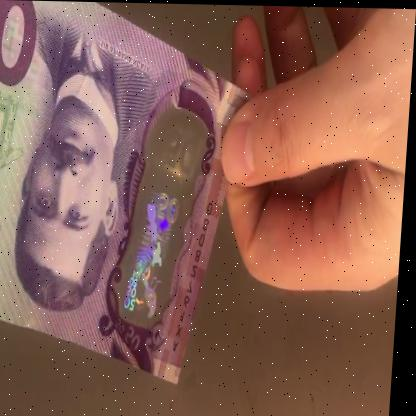50F: (126, 128, 200, 326)
